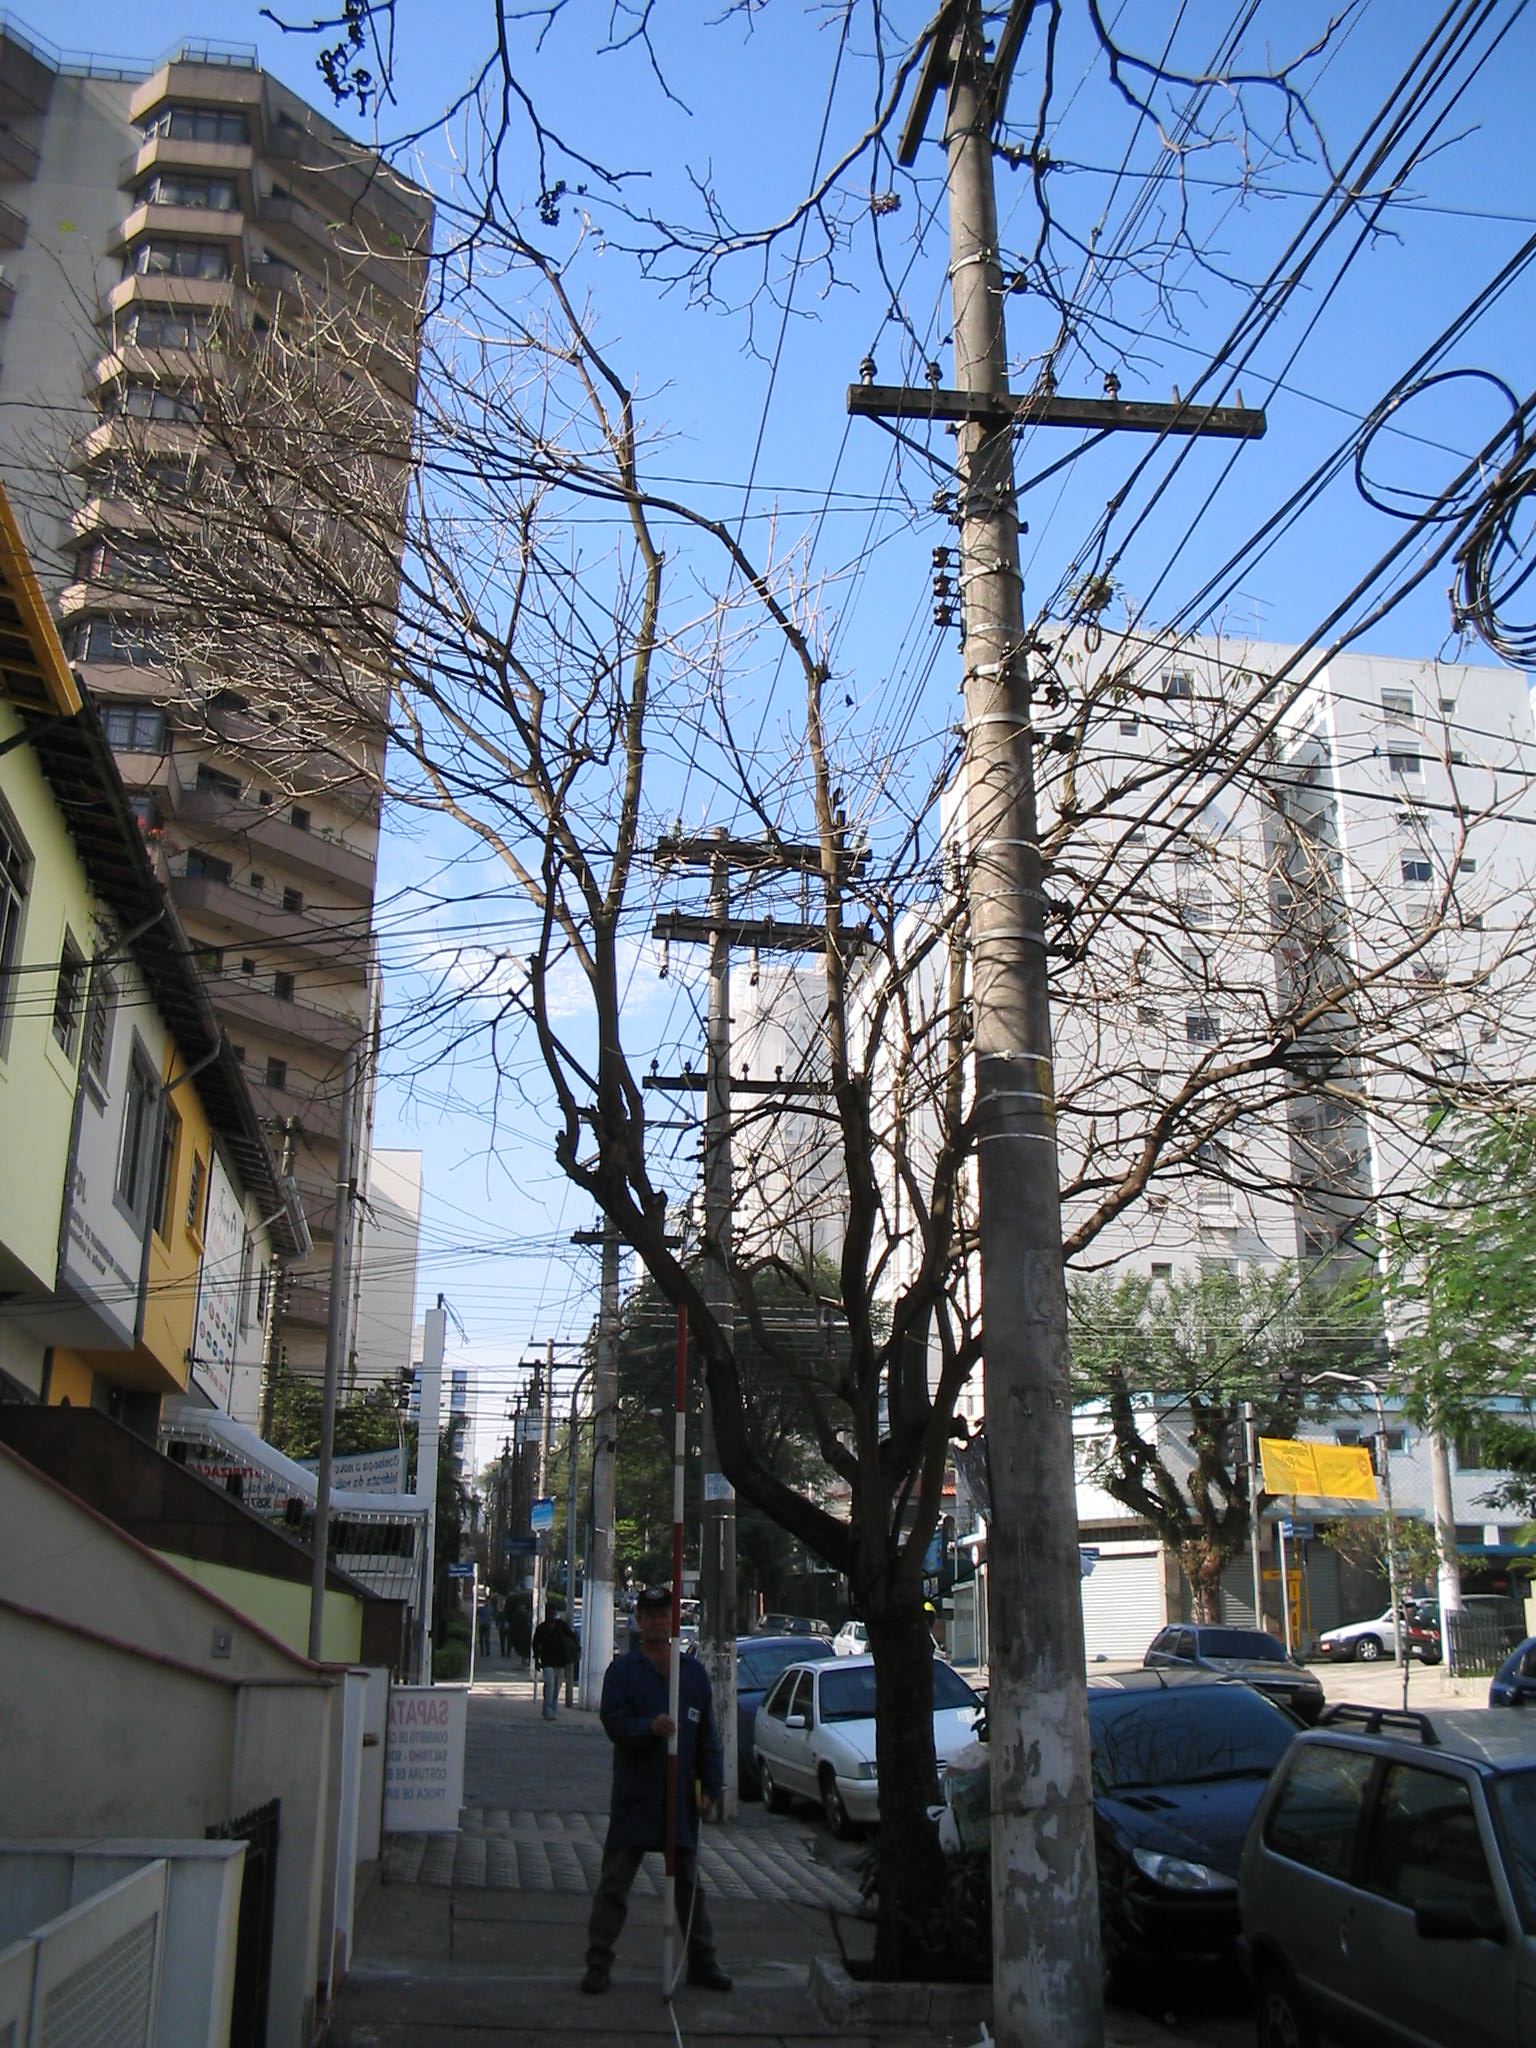stem: (816, 1587, 983, 1982)
stick: (632, 1311, 724, 1996)
tree: (3, 61, 1530, 1987), (1070, 1271, 1396, 1632)
